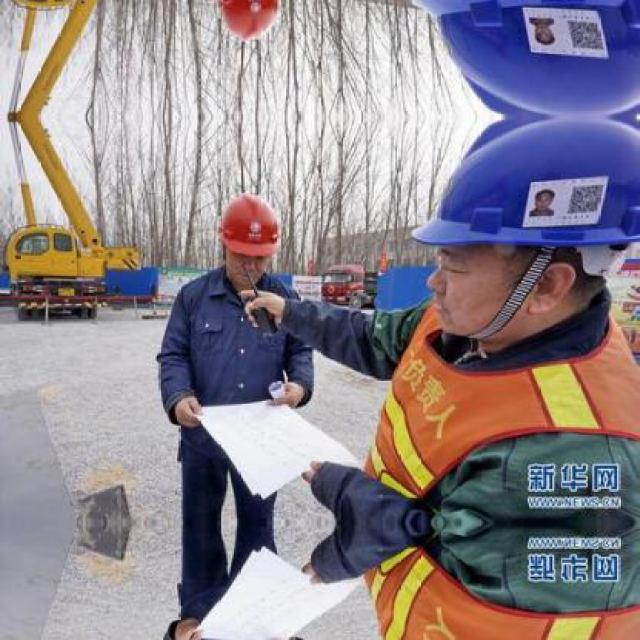helmet: (396, 117, 638, 350), (396, 0, 638, 117), (212, 185, 283, 285), (212, 0, 284, 49)
